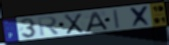3: (18, 17, 38, 39)
A: (85, 10, 110, 33)
I: (112, 8, 121, 30)
R: (37, 15, 61, 38)
X: (129, 5, 153, 29), (63, 13, 85, 35)
